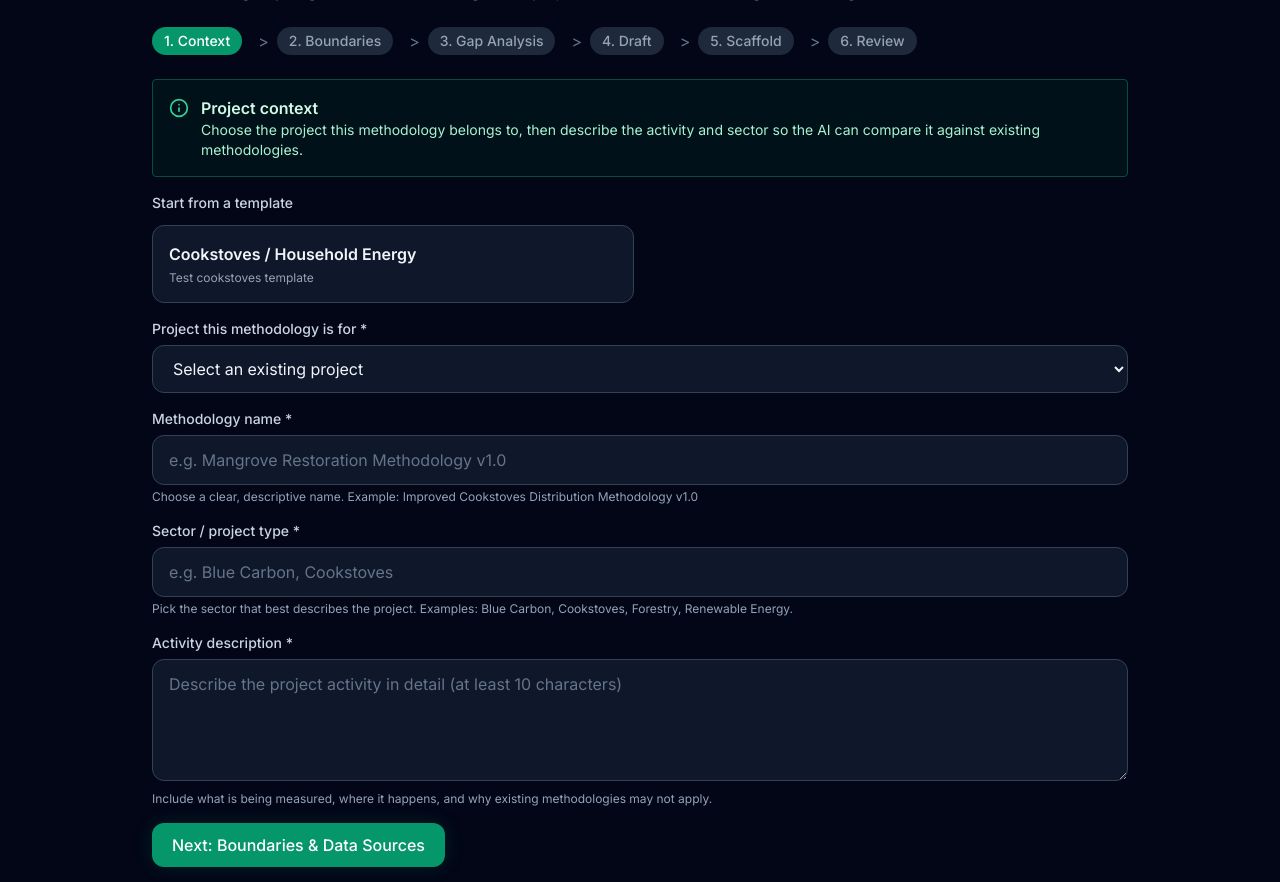
Test case: MethodologyDesignerPage › shows validation errors for empty required fields
(page scrolled)
What coordinates should you click on to do the following:
click the button "Next: Boundaries & Data Sources"
I would click on:
 (298, 845)
Its box is [152, 823, 445, 867].
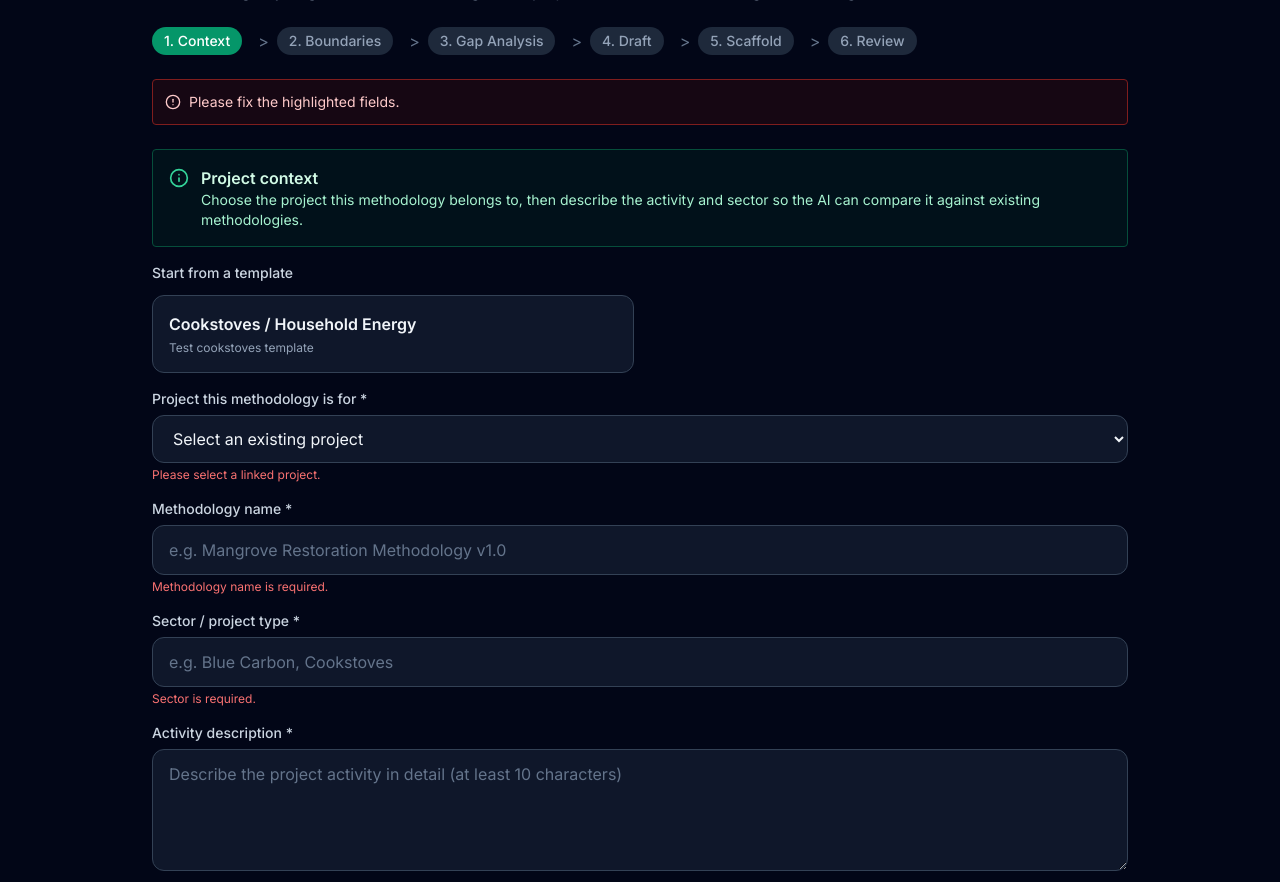
Expected: the text "Please fix the highlighted fields." is shown, [189, 92, 400, 112]
Expected: the text "Please select a linked project." is shown, [152, 467, 321, 482]
Expected: the text "Methodology name is required." is shown, [152, 579, 328, 594]
